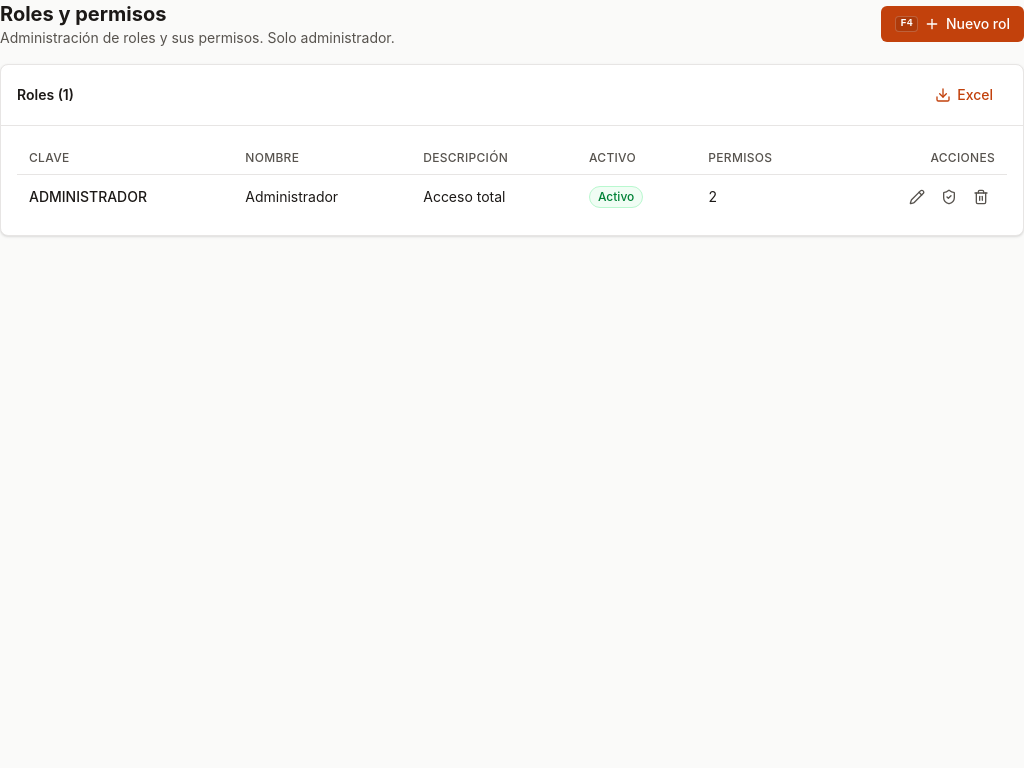
Test case: RolesPage (profundización) › muestra toast si cargar los permisos del rol falla
The image size is (1024, 768).
Expected: the text "ADMINISTRADOR" is shown, [29,188,147,205]
Click the button named "Permisos de Administrador".
click(949, 197)  # box [935,183,963,211]
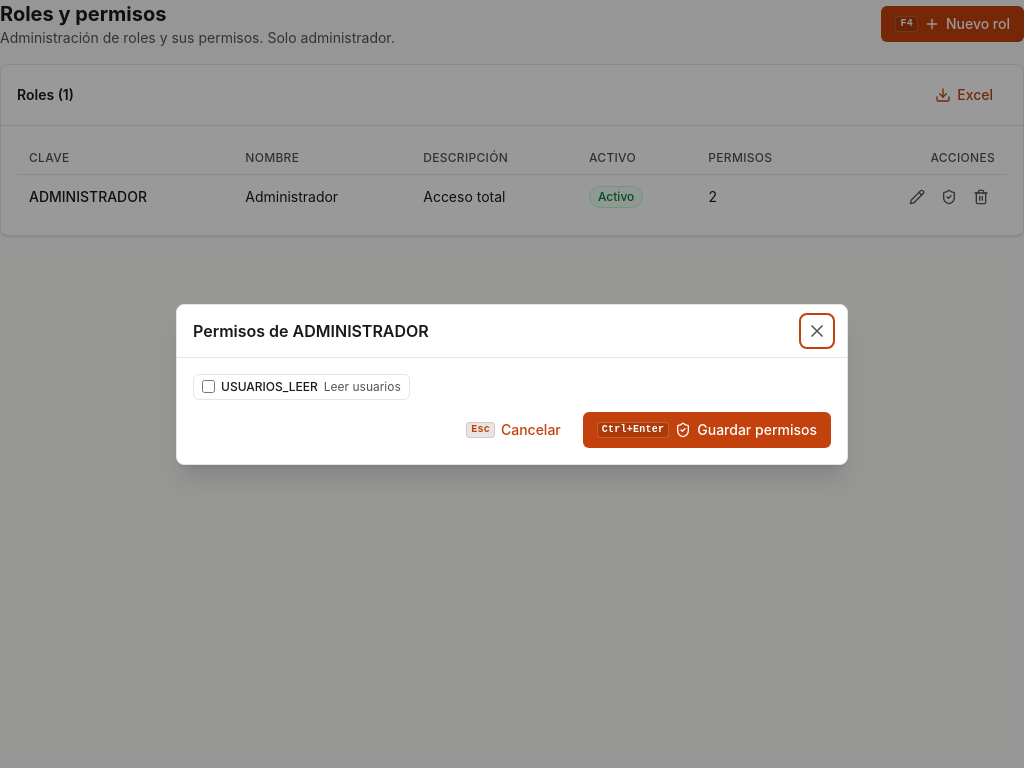
Result: the dialog "Permisos de ADMINISTRADOR" is shown at [176,304,848,464]
